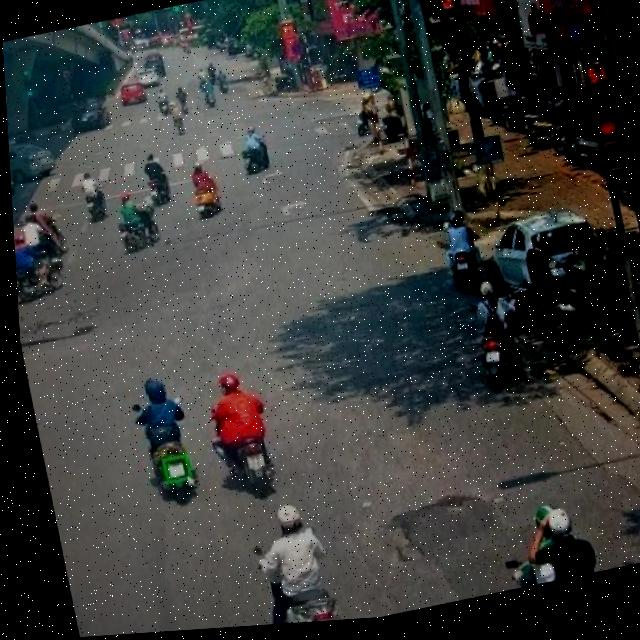Red: (578, 68, 634, 207)
